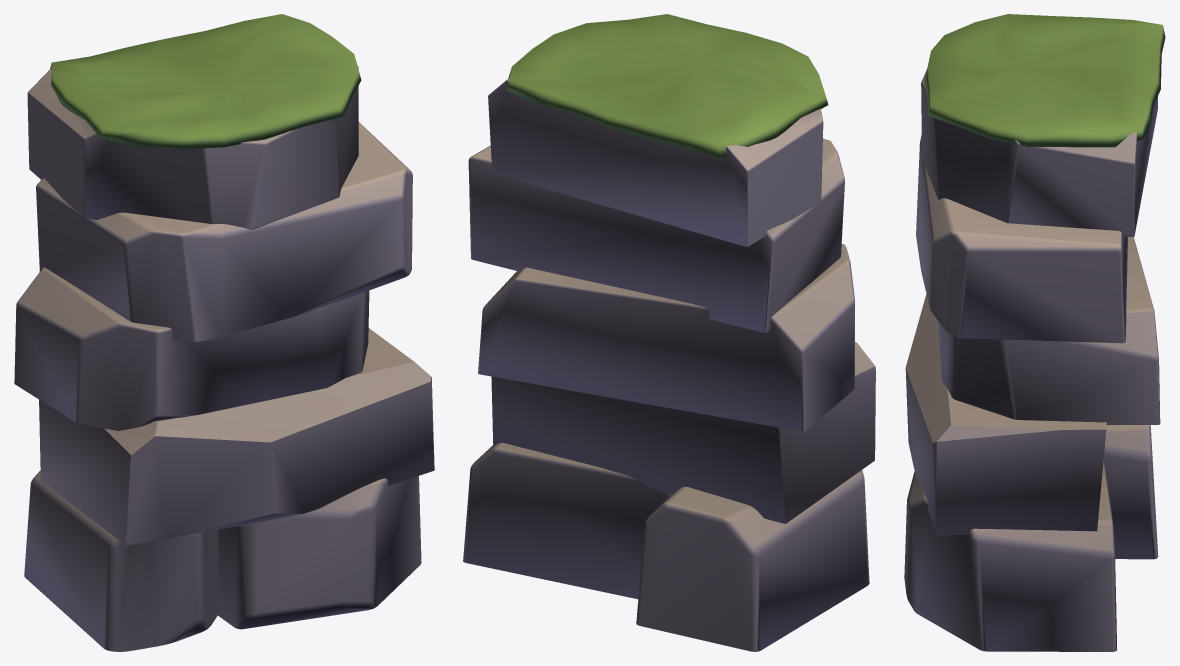
Rendered from CliffChunk2.fbx.
The picture shows the model from 3 angles, left to right: view 1: azimuth 30°, elevation 25°; view 2: azimuth 150°, elevation 25°; view 3: azimuth 270°, elevation 25°; orthographic projection. The views are drawn at different scales.
Parts seen in each view (by area): view 1: CliffChunk2; view 2: CliffChunk2; view 3: CliffChunk2.
Part boxes in pixels (box(x1,y1,x2,y2)): CliffChunk2: box(14, 14, 434, 651); CliffChunk2: box(463, 14, 875, 651); CliffChunk2: box(904, 14, 1165, 651).
Size of the model in its own units: 7.07 by 10.06 by 4.76.
